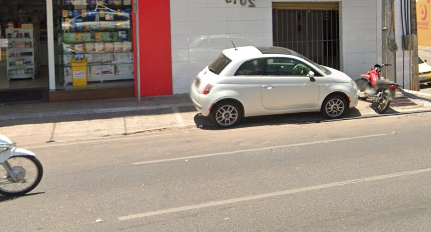car: (185, 33, 362, 129)
